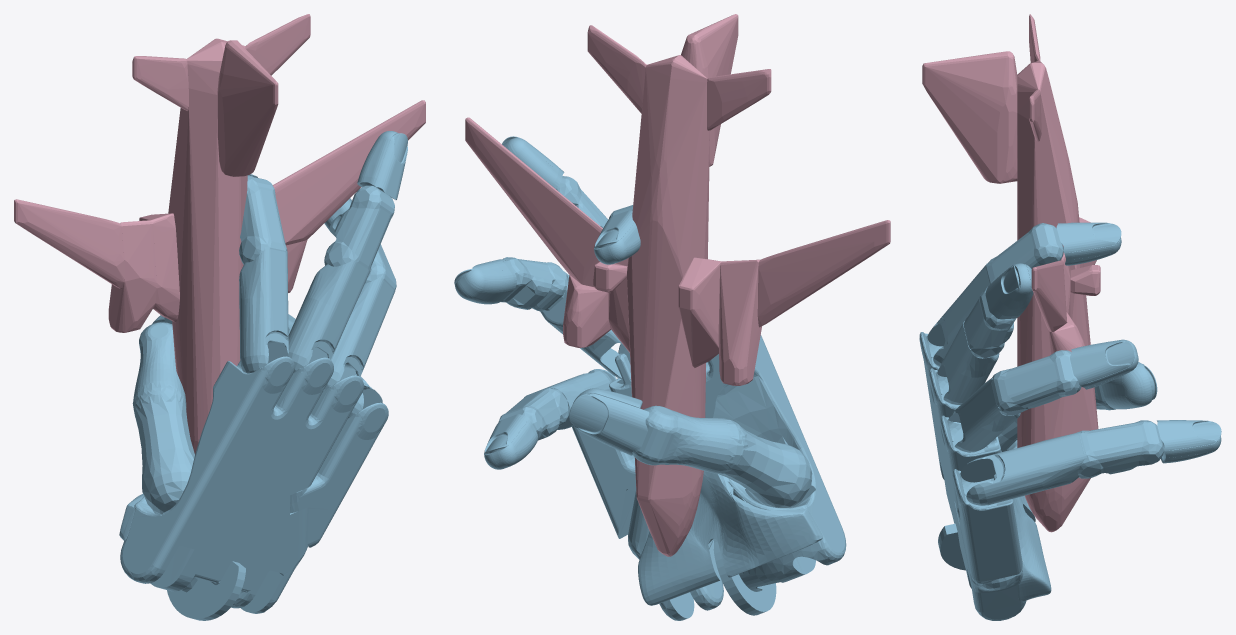
3 renders of one model, left to right at view 1: azimuth 30°, elevation 25°; view 2: azimuth 150°, elevation 25°; view 3: azimuth 270°, elevation 25°, orthographic. The views are drawn at different scales.
Visible parts, largest first — view 1: hand_isaac_q, world; view 2: world, hand_isaac_q; view 3: hand_isaac_q, world.
Part boxes in pixels (box(x1,y1,x2,y2)): hand_isaac_q: box(119, 131, 407, 620); world: box(14, 14, 425, 454); world: box(465, 14, 890, 556); hand_isaac_q: box(454, 136, 846, 620); hand_isaac_q: box(919, 222, 1221, 620); world: box(922, 14, 1100, 532).
Bounding box in the file's own units: 0.1942 × 0.258 × 0.1259.
